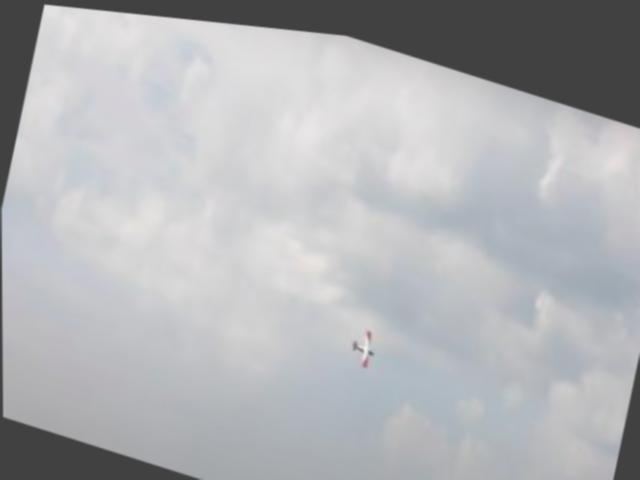uav: (345, 317, 379, 365)
